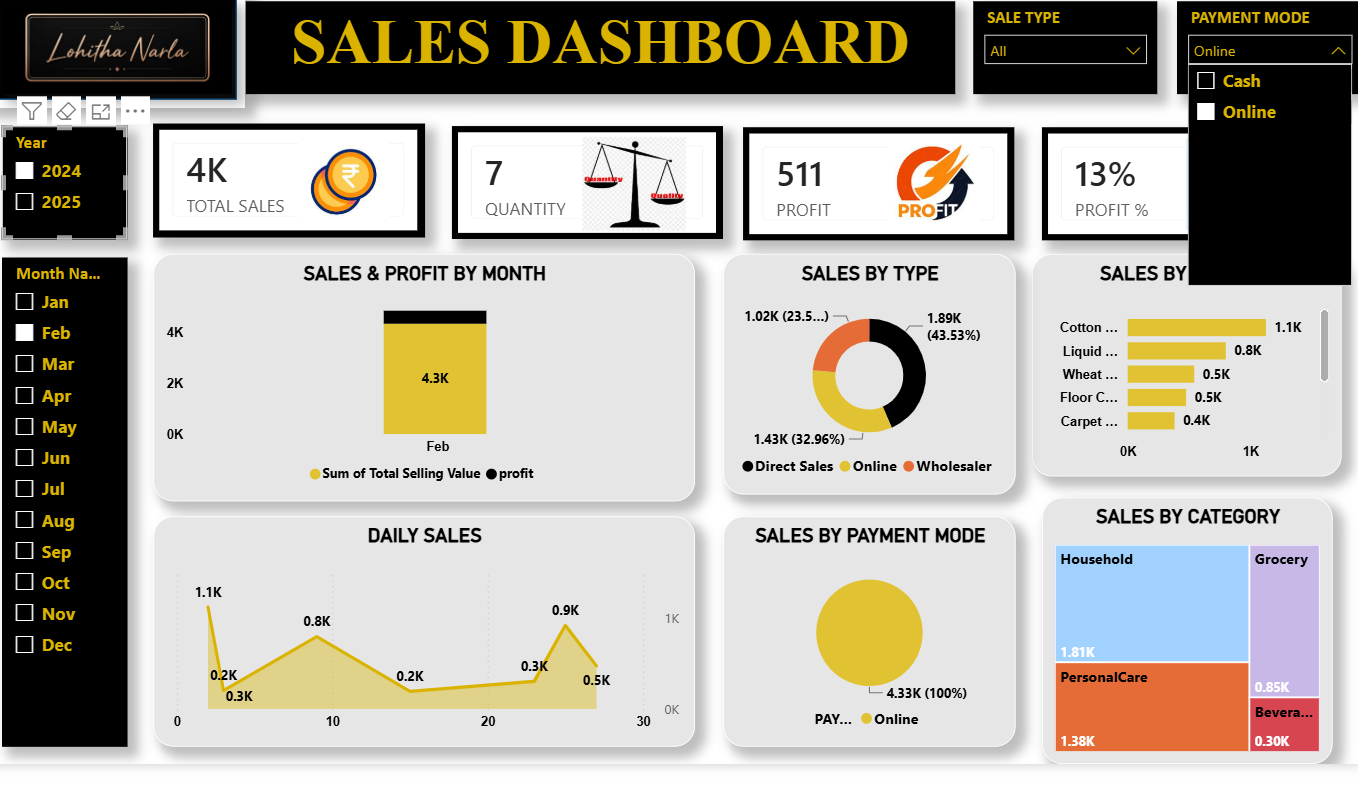

Layout of this report page (visuals, bound fields, positions):
{"tool":"powerbi","page":{"name":"SALES DASHBOARD","canvas":[1280,720],"ordinal":0},"visuals":[{"type":"shape","box":[0,0,240.1,109.8],"z":0},{"type":"image","box":[13.7,11,214.1,86.4],"z":1000},{"type":"textbox","box":[240.1,11,660,86.4],"z":2000},{"type":"slicer","fields":{"Values":["InputData.Year"]},"box":[13.7,126.2,116.6,105.7],"z":3000},{"type":"slicer","fields":{"Values":["InputData.Month Name"]},"box":[13.7,248.4,116.6,455.6],"z":4000},{"type":"slicer","fields":{"Values":["InputData.SALE TYPE"]},"box":[918,11,171.5,86.4],"z":5000},{"type":"slicer","fields":{"Values":["InputData.PAYMENT MODE"]},"box":[1107.4,11,172.9,86.4],"z":6000},{"type":"cardVisual","fields":{"Data":["Sum(InputData.Total Selling Value)"]},"box":[155.1,124.9,252.5,105.7],"z":7000},{"type":"cardVisual","fields":{"Data":["InputData.profit %"]},"box":[981.1,127.6,252,105],"z":8000},{"type":"cardVisual","fields":{"Data":["InputData.profit"]},"box":[703.9,127.6,252,105],"z":9000},{"type":"cardVisual","fields":{"Data":["Sum(InputData.QUANTITY)"]},"box":[432.2,126.2,252,105],"z":10000},{"type":"image","box":[269,135.8,126.2,85.1],"z":11000},{"type":"image","box":[544.8,135.8,113.9,89.2],"z":12000},{"type":"image","box":[1082.7,137.2,150.9,86.4],"z":13000},{"type":"image","box":[830.2,134.5,100.2,87.8],"z":14000},{"type":"columnChart","title":"SALES & PROFIT BY MONTH","fields":{"Category":["InputData.Month Name"],"Y":["Sum(InputData.Total Selling Value)","InputData.profit"]},"box":[155.1,245.6,503.6,230.5],"z":15000},{"type":"areaChart","title":"DAILY SALES","fields":{"Category":["InputData.Day"],"Y2":["Sum(InputData.Total Selling Value)"]},"box":[155.1,489.9,503.6,214.1],"z":16000},{"type":"clusteredBarChart","title":"SALES BY PRODUCT","fields":{"Category":["InputData.MasterData.PRODUCT"],"Y":["Sum(InputData.Total Selling Value)"]},"box":[971.5,245.6,288.2,207.2],"z":17000},{"type":"treemap","title":"SALES BY CATEGORY","fields":{"Values":["Sum(InputData.Total Selling Value)"],"Group":["InputData.MasterData.CATEGORY"]},"box":[981.1,472,270.3,248.4],"z":18000},{"type":"donutChart","title":"SALES BY TYPE","fields":{"Y":["Sum(InputData.Total Selling Value)"],"Category":["InputData.SALE TYPE"]},"box":[684.7,245.6,271.7,223.7],"z":19000},{"type":"pieChart","title":"SALES BY PAYMENT MODE","fields":{"Y":["Sum(InputData.Total Selling Value)"],"Category":["InputData.PAYMENT MODE"]},"box":[685,490,272,214],"z":20000}]}

Visuals, with their boxes in screenshot pixels (x1, y1, x2, y2):
shape: detection(0, 0, 243, 105)
image: detection(0, 0, 229, 92)
textbox: detection(243, 0, 959, 92)
slicer - InputData.Year: detection(0, 123, 124, 237)
slicer - InputData.Month Name: detection(0, 255, 124, 749)
slicer - InputData.SALE TYPE: detection(978, 0, 1164, 92)
slicer - InputData.PAYMENT MODE: detection(1184, 0, 1357, 92)
cardVisual - Sum(InputData.Total Selling Value): detection(151, 121, 424, 236)
cardVisual - InputData.profit %: detection(1047, 124, 1320, 238)
cardVisual - InputData.profit: detection(746, 124, 1019, 238)
cardVisual - Sum(InputData.QUANTITY): detection(451, 123, 724, 237)
image: detection(274, 133, 411, 225)
image: detection(573, 133, 697, 230)
image: detection(1157, 135, 1320, 228)
image: detection(883, 132, 992, 227)
"SALES & PROFIT BY MONTH" columnChart: detection(151, 252, 697, 502)
"DAILY SALES" areaChart: detection(151, 517, 697, 749)
"SALES BY PRODUCT" clusteredBarChart: detection(1036, 252, 1349, 477)
"SALES BY CATEGORY" treemap: detection(1047, 498, 1340, 767)
"SALES BY TYPE" donutChart: detection(725, 252, 1020, 495)
"SALES BY PAYMENT MODE" pieChart: detection(725, 517, 1020, 749)
